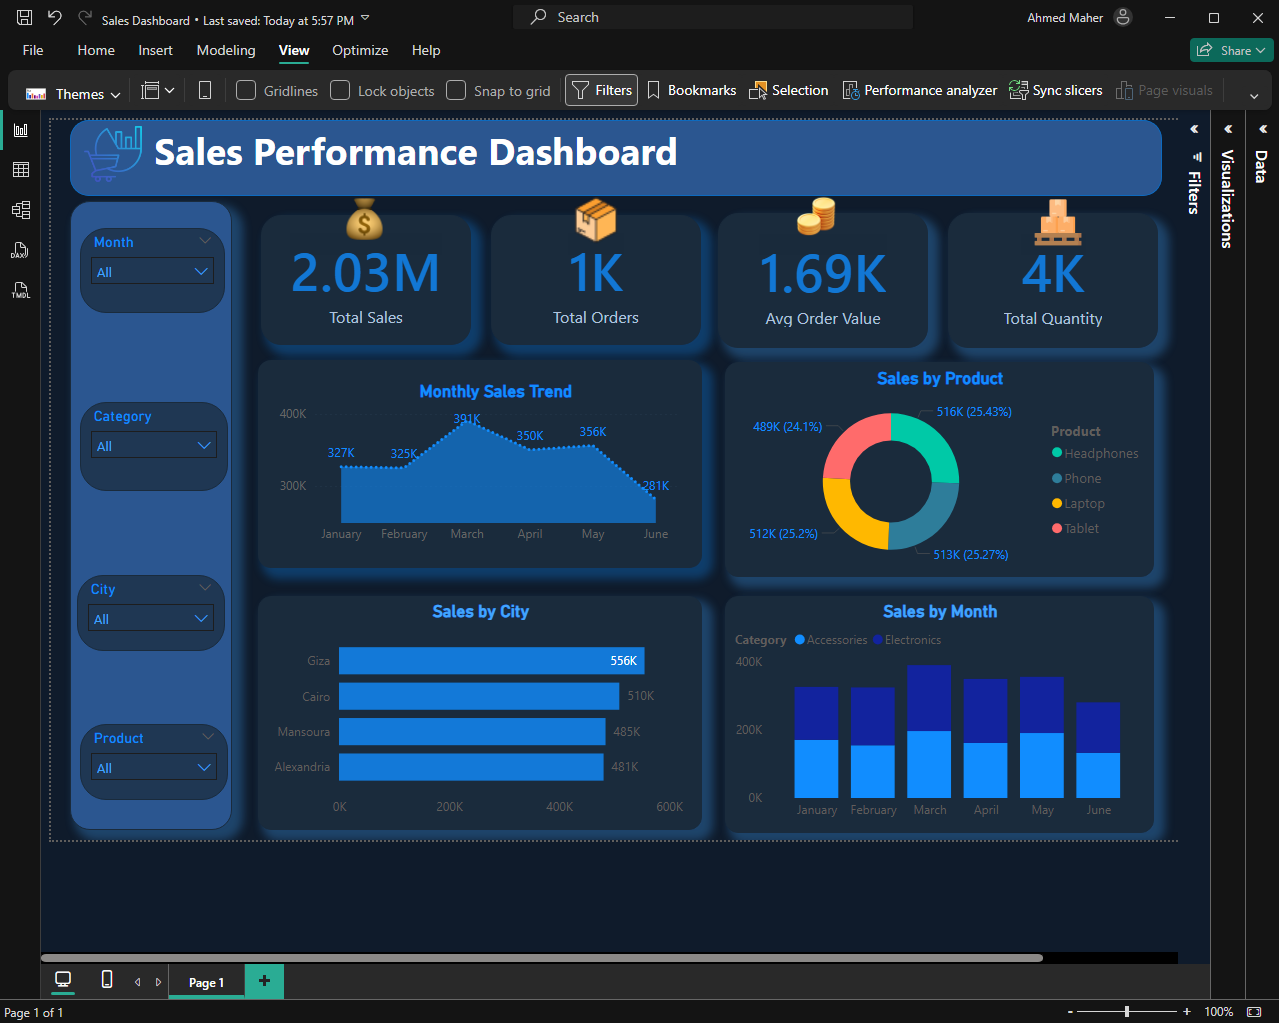

What the dashboard file says about the page in this screenshot:
{"tool":"powerbi","page":{"name":"Page 1","canvas":[1400,1000],"ordinal":0},"visuals":[{"type":"shape","box":[18.9,0,1092.2,75.6],"z":0},{"type":"textbox","box":[88,0,563,68],"z":1000},{"type":"group","id":"g1","title":"Group 1","box":[440,64,210,161],"z":2000},{"type":"cardVisual","fields":{"Data":["Measure.Avg Order Value"]},"box":[667,93,210,135],"z":2000,"group":"g4"},{"type":"cardVisual","fields":{"Data":["Measure.Total Sales"]},"box":[210,94.9,210,130],"z":2000,"group":"g5"},{"type":"group","id":"g2","title":"Group 2","box":[210,71,210,153.9],"z":3000},{"type":"cardVisual","fields":{"Data":["Measure.Total Quantity"]},"box":[897,93,210,135],"z":3000,"group":"g3"},{"type":"cardVisual","fields":{"Data":["Measure.Total Orders"]},"box":[440,95,210,130],"z":3000,"group":"g1"},{"type":"group","id":"g3","title":"Group 3","box":[897,77,210,151],"z":4000},{"type":"group","id":"g4","title":"Group 4","box":[667,73,210,155],"z":5000},{"type":"group","id":"g5","title":"Group 5","box":[210,71,210,153.9],"z":5001,"group":"g2"},{"type":"image","box":[288.3,71,51.1,53.9],"z":5001,"group":"g5"},{"type":"image","box":[724,73,82,45],"z":5001,"group":"g4"},{"type":"image","box":[521,64,48,71],"z":5002,"group":"g1"},{"type":"image","box":[970.9,77,71.2,50],"z":5002,"group":"g3"},{"type":"shape","box":[19,81,162,629],"z":6000},{"type":"areaChart","title":"Monthly Sales Trend","fields":{"Category":["Data.Month Name"],"Y":["Measure.Total Sales"]},"box":[207,240,444,208],"z":7000},{"type":"donutChart","title":"Sales by Product","fields":{"Category":["Data.Product"],"Y":["Measure.Total Sales"]},"box":[674.4,242.2,428.9,214.4],"z":8000},{"type":"clusteredBarChart","title":"Sales by City","fields":{"Category":["Data.City"],"Y":["Measure.Total Sales"]},"box":[207,476,444,234],"z":9000},{"type":"columnChart","title":"Sales by Month","fields":{"Category":["Data.Month Name"],"Y":["Measure.Total Sales"],"Series":["Data.Category"]},"box":[674.4,475.6,428.9,237.8],"z":10000},{"type":"slicer","fields":{"Values":["Data.Month Name"]},"box":[29,108,145,85],"z":11000},{"type":"slicer","fields":{"Values":["Data.Category"]},"box":[29,282,148,89],"z":12000},{"type":"slicer","fields":{"Values":["Data.City"]},"box":[26,455,148,76],"z":13000},{"type":"slicer","fields":{"Values":["Data.Product"]},"box":[29,604,148,76],"z":14000},{"type":"image","box":[15,0,93,68],"z":15000}]}

Visuals, with their boxes on the page's 1400x1000 design canvas (x1, y1, x2, y2). These are canvas units, not pixel positions in the 1279x1023 screenshot, which may show the page scaled, cropped or inside an application window:
shape: BBox(19, 0, 1111, 76)
textbox: BBox(88, 0, 651, 68)
"Group 1" group: BBox(440, 64, 650, 225)
cardVisual - Measure.Avg Order Value: BBox(667, 93, 877, 228)
cardVisual - Measure.Total Sales: BBox(210, 95, 420, 225)
"Group 2" group: BBox(210, 71, 420, 225)
cardVisual - Measure.Total Quantity: BBox(897, 93, 1107, 228)
cardVisual - Measure.Total Orders: BBox(440, 95, 650, 225)
"Group 3" group: BBox(897, 77, 1107, 228)
"Group 4" group: BBox(667, 73, 877, 228)
"Group 5" group: BBox(210, 71, 420, 225)
image: BBox(288, 71, 339, 125)
image: BBox(724, 73, 806, 118)
image: BBox(521, 64, 569, 135)
image: BBox(971, 77, 1042, 127)
shape: BBox(19, 81, 181, 710)
"Monthly Sales Trend" areaChart: BBox(207, 240, 651, 448)
"Sales by Product" donutChart: BBox(674, 242, 1103, 457)
"Sales by City" clusteredBarChart: BBox(207, 476, 651, 710)
"Sales by Month" columnChart: BBox(674, 476, 1103, 713)
slicer - Data.Month Name: BBox(29, 108, 174, 193)
slicer - Data.Category: BBox(29, 282, 177, 371)
slicer - Data.City: BBox(26, 455, 174, 531)
slicer - Data.Product: BBox(29, 604, 177, 680)
image: BBox(15, 0, 108, 68)
